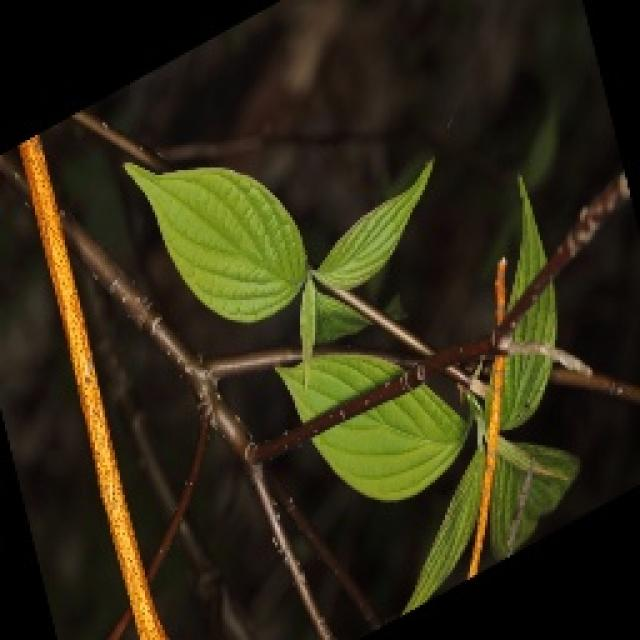Golden_canker: (5, 87, 202, 640), (451, 232, 523, 574)
